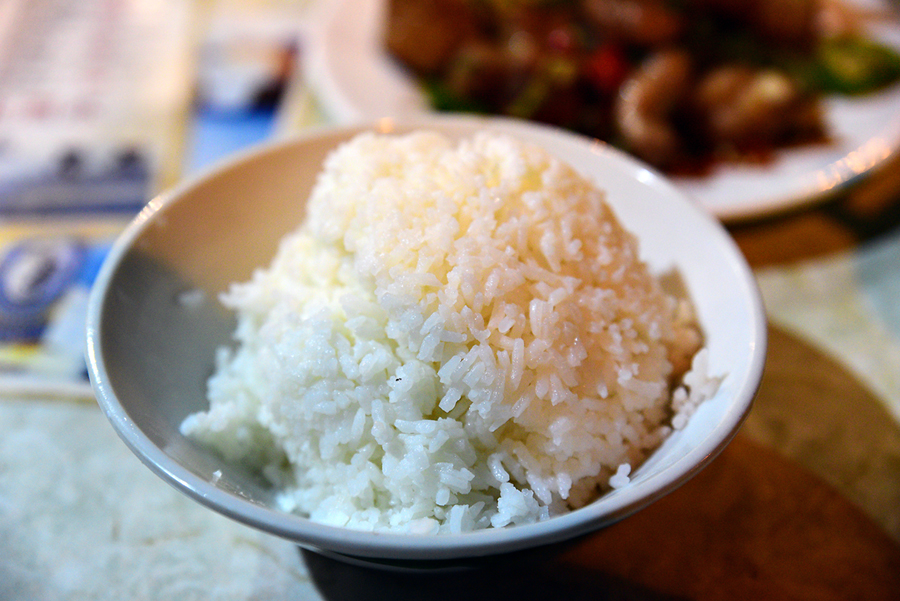plain rice: (223, 175, 668, 482)
